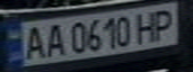0: (115, 12, 136, 47), (66, 19, 87, 54)
1: (100, 15, 121, 49)
6: (84, 17, 106, 52)
A: (18, 24, 48, 61), (39, 20, 69, 57)
H: (133, 9, 163, 44)
P: (148, 6, 181, 42)
